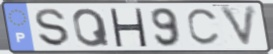9: (149, 7, 182, 48)
C: (185, 7, 222, 48)
H: (108, 7, 149, 48)
Q: (70, 7, 112, 48)
S: (33, 8, 71, 48)
V: (217, 4, 259, 50)
